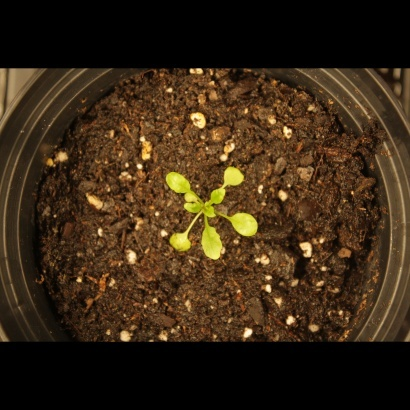leaf: (164, 226, 198, 264), (223, 212, 265, 240), (198, 226, 229, 263), (160, 168, 199, 197), (219, 161, 246, 188), (210, 183, 233, 206), (181, 194, 204, 217)
